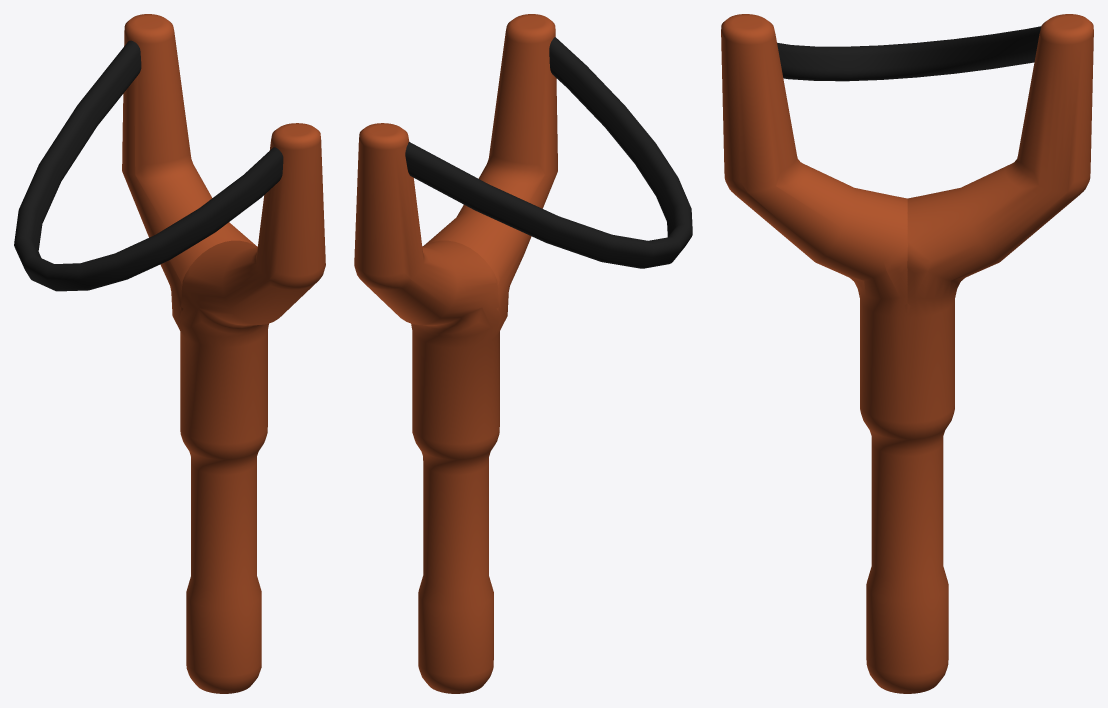
File: slingshot.fbx
3 views of the same model, side by side, from view 1: azimuth 30°, elevation 25°; view 2: azimuth 150°, elevation 25°; view 3: azimuth 270°, elevation 25° (orthographic). The views are drawn at different scales.
Visible parts, largest first — view 1: Cylinder; view 2: Cylinder; view 3: Cylinder.
Part boxes in pixels (left/top/right/bottom): Cylinder: left=14, top=14, right=325, bottom=693; Cylinder: left=354, top=14, right=692, bottom=693; Cylinder: left=721, top=14, right=1093, bottom=693.
Bounding box in the file's own units: 346 × 779 × 400.
